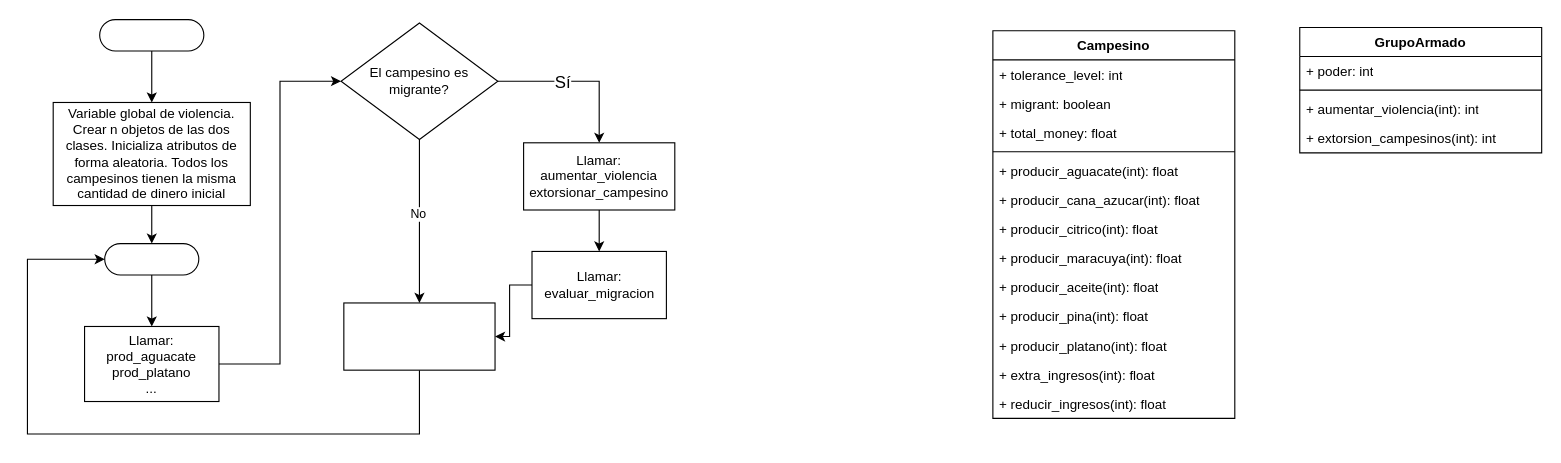
The diagram is 1561 pixels wide and 463 high, and some of its shapes have lost their labels. Each missing label, with the centre of its shape:
"Llamar: extra_ingresos reducir_ingresos" goes at [419,336].
"To Go" goes at [151,258].
"To Setup" goes at [151,34].
